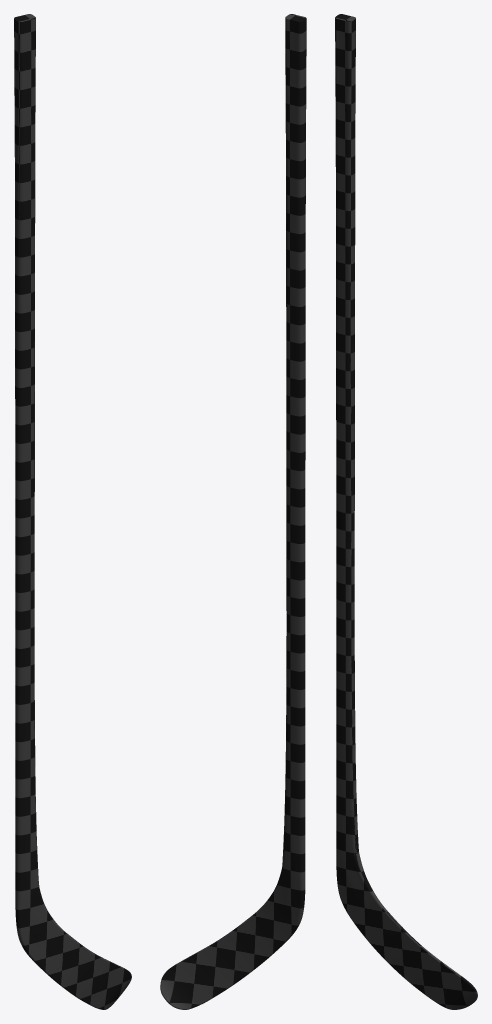
File: P110-SBO.glb
3 views of the same model, side by side, from view 1: azimuth 30°, elevation 25°; view 2: azimuth 150°, elevation 25°; view 3: azimuth 330°, elevation 25° (orthographic). The views are drawn at different scales.
Visible parts, largest first — view 1: geometry_0; view 2: geometry_0; view 3: geometry_0.
Boxes of the visible parts, x1,y1,x2,y2 form: geometry_0: [14, 14, 131, 1009]; geometry_0: [160, 14, 306, 1009]; geometry_0: [335, 14, 477, 1009].
Bounding box in the file's own units: 220 × 1650 × 66.55.
Materials: 1 (1 with a texture image).
